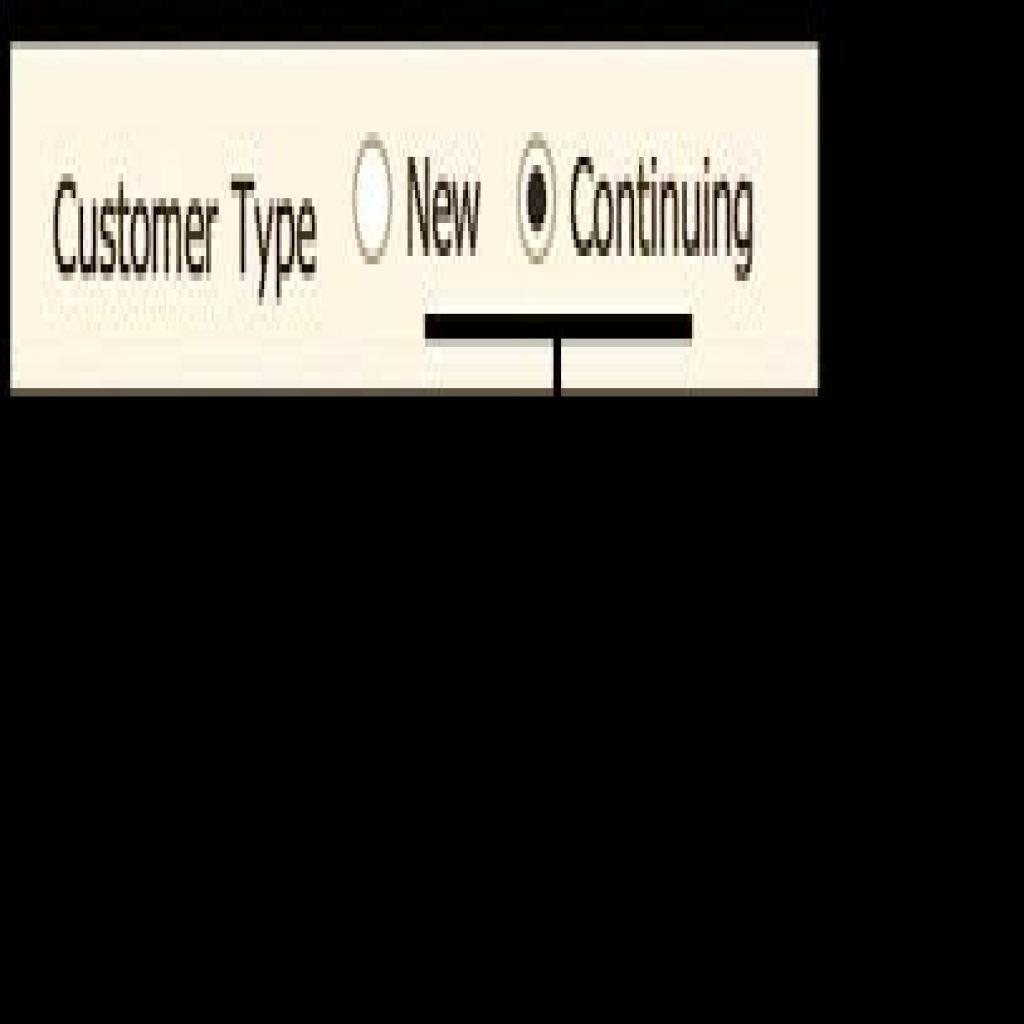label: (49, 169, 329, 300), (564, 152, 761, 272), (403, 150, 490, 258)
radio: (350, 138, 396, 263), (517, 136, 558, 265)
